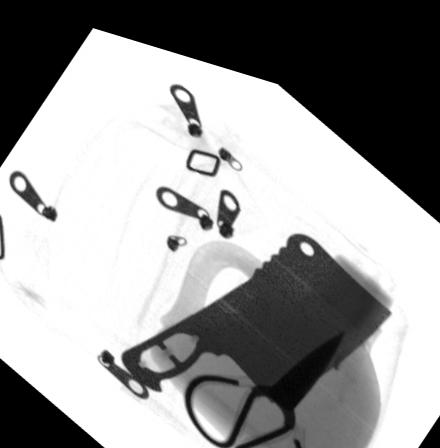Knife: (121, 215, 392, 396)
Scissors: (183, 308, 343, 448)
